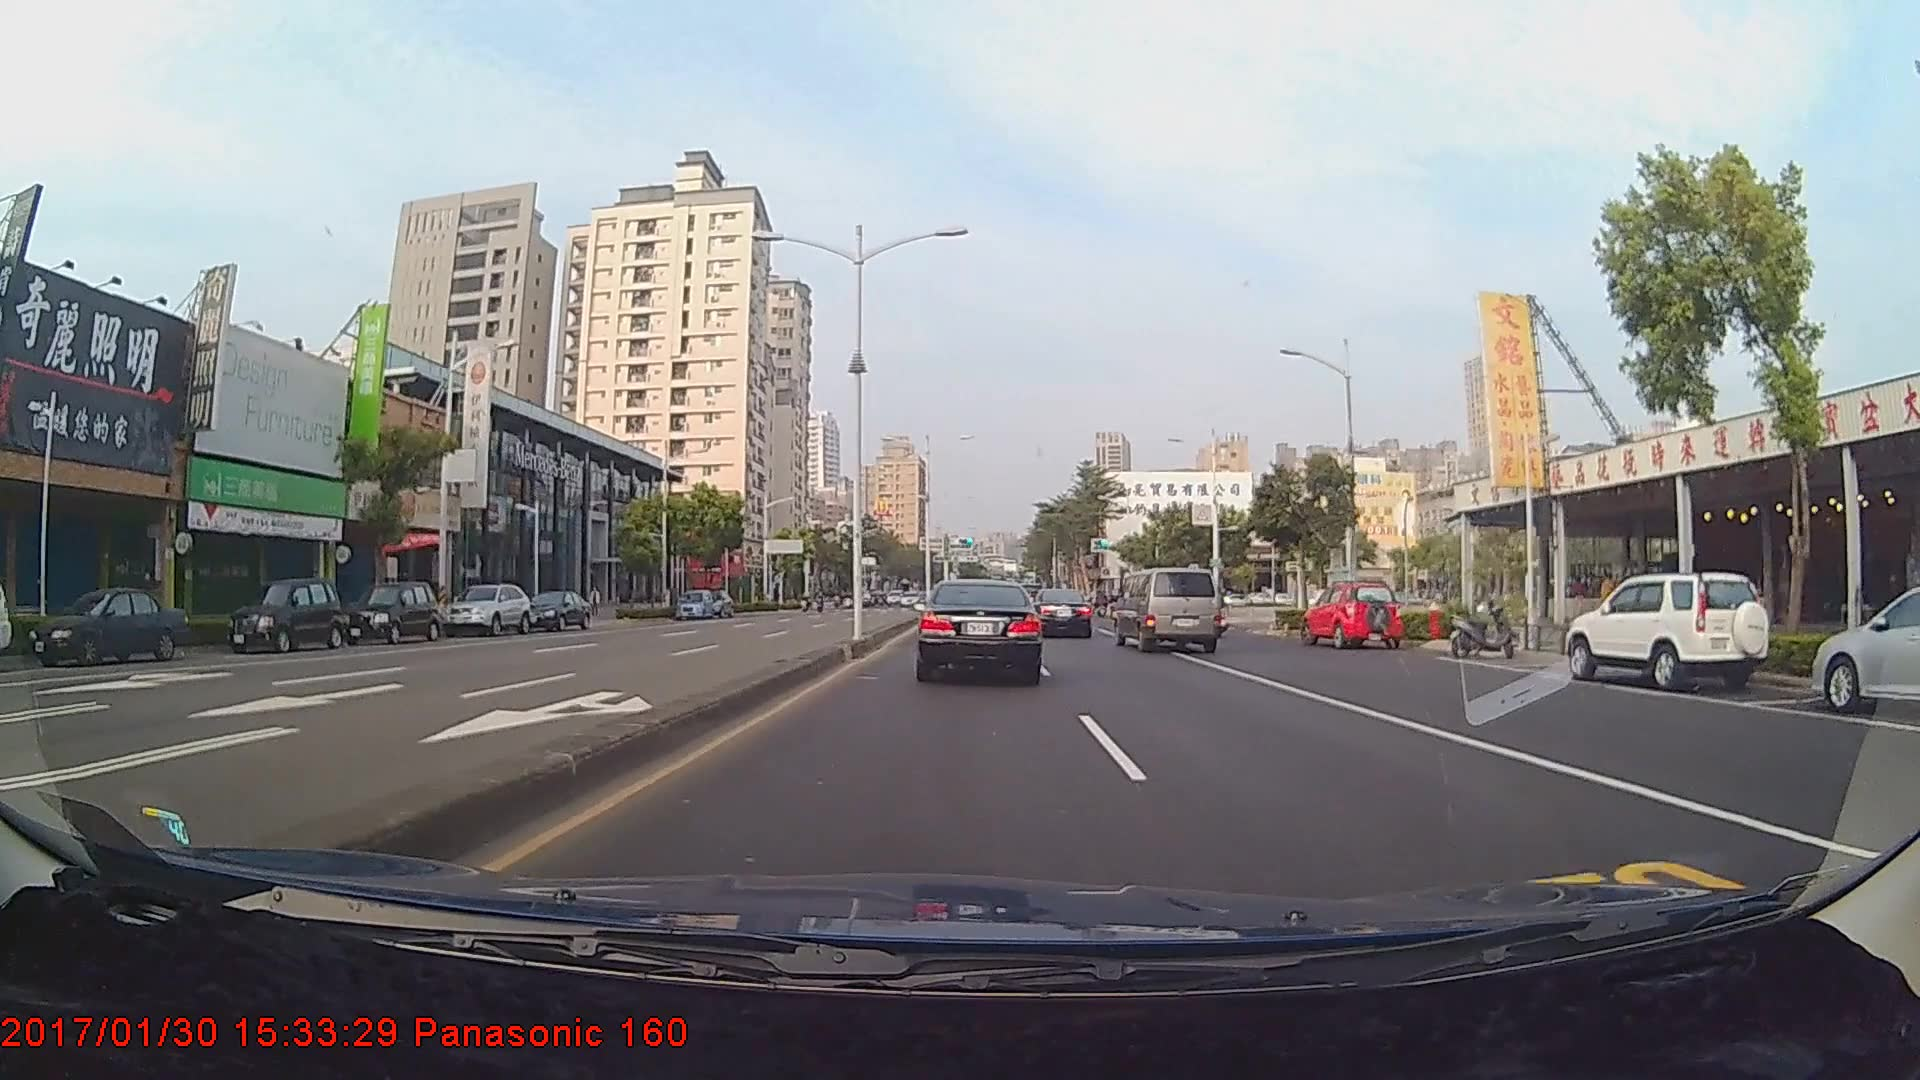vehicle: (1567, 568, 1764, 691), (1809, 578, 1920, 719), (22, 585, 191, 667), (915, 576, 1040, 683), (1113, 566, 1221, 653), (225, 576, 345, 651), (338, 582, 440, 645), (1305, 582, 1400, 650), (443, 582, 534, 638), (1031, 587, 1092, 640), (524, 588, 591, 632), (673, 588, 713, 618)
